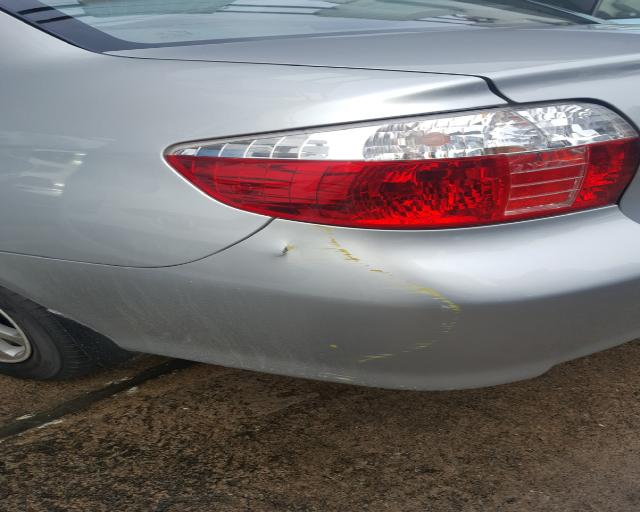scratch: (311, 226, 476, 378)
